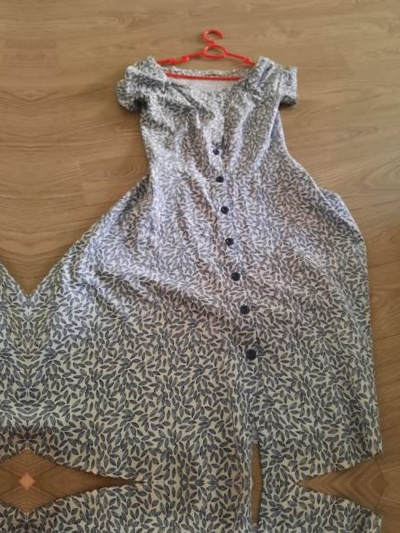Dress: (30, 31, 397, 473), (26, 493, 393, 533), (0, 28, 27, 470), (0, 490, 23, 533)
